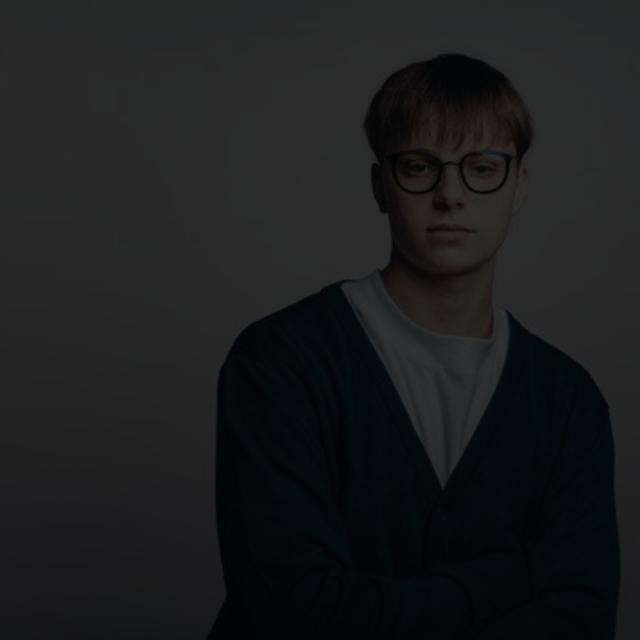Natural: (362, 90, 546, 265)
